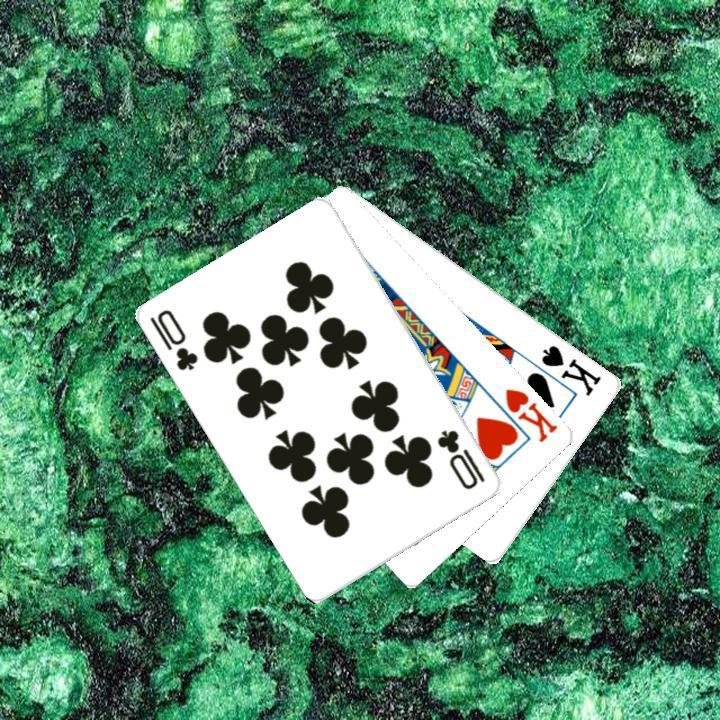10: (146, 305, 201, 373), (433, 425, 488, 492)
K: (537, 340, 604, 398), (501, 384, 561, 445)
